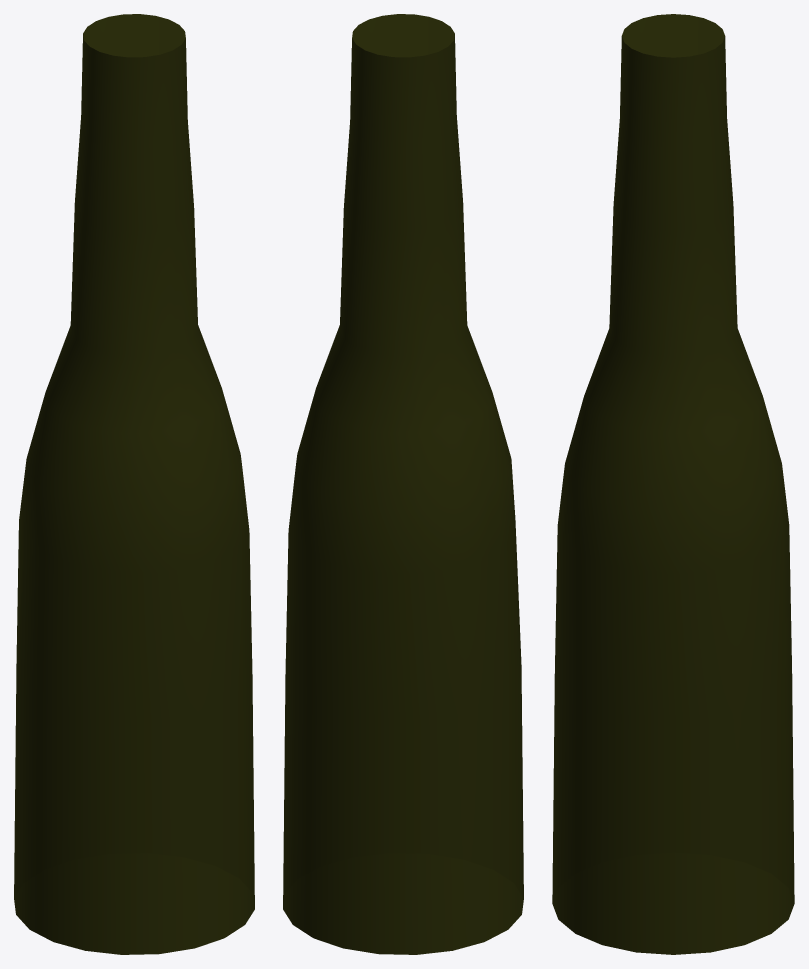
File: bottle.fbx
3 views of the same model, side by side, from view 1: azimuth 30°, elevation 25°; view 2: azimuth 150°, elevation 25°; view 3: azimuth 270°, elevation 25° (orthographic).
Parts seen in each view (by area): view 1: pCylinder1; view 2: pCylinder1; view 3: pCylinder1.
Part boxes in pixels (bbox=[...]): pCylinder1: bbox=[14, 14, 254, 954]; pCylinder1: bbox=[283, 14, 523, 954]; pCylinder1: bbox=[552, 14, 794, 954].
Size of the model in its own units: 4.45 by 17.58 by 4.45.
